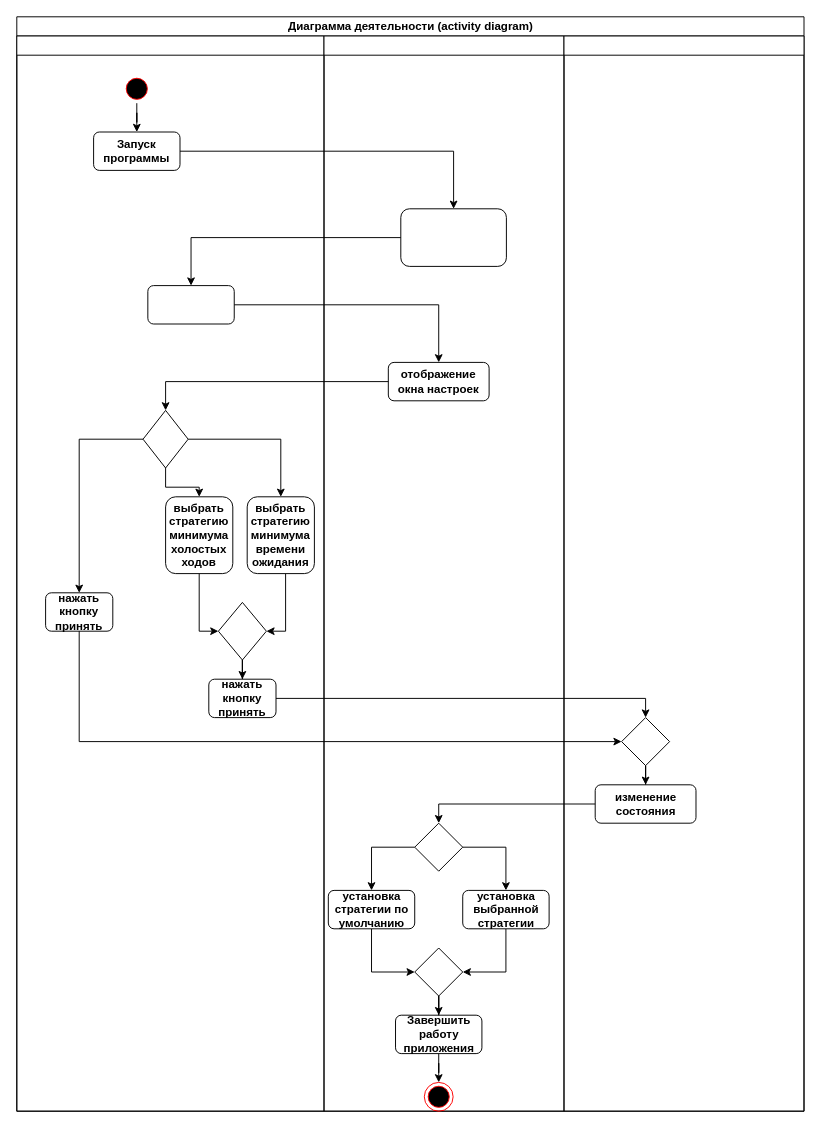
Some shapes in this 821 by 1128 pixel diagram are drawn without their labels. The shapes that lost their labels are listed below. From the top down, each one's box as (x1, y1, x2, y2) in pixels, then its label:
(400, 208, 506, 266): Отображение окна управления
(147, 285, 234, 324): открыть настройки
(16, 35, 324, 1111): Пользователь
(323, 35, 564, 1111): Бизнес-логика
(563, 35, 804, 1111): База данных (условная)
